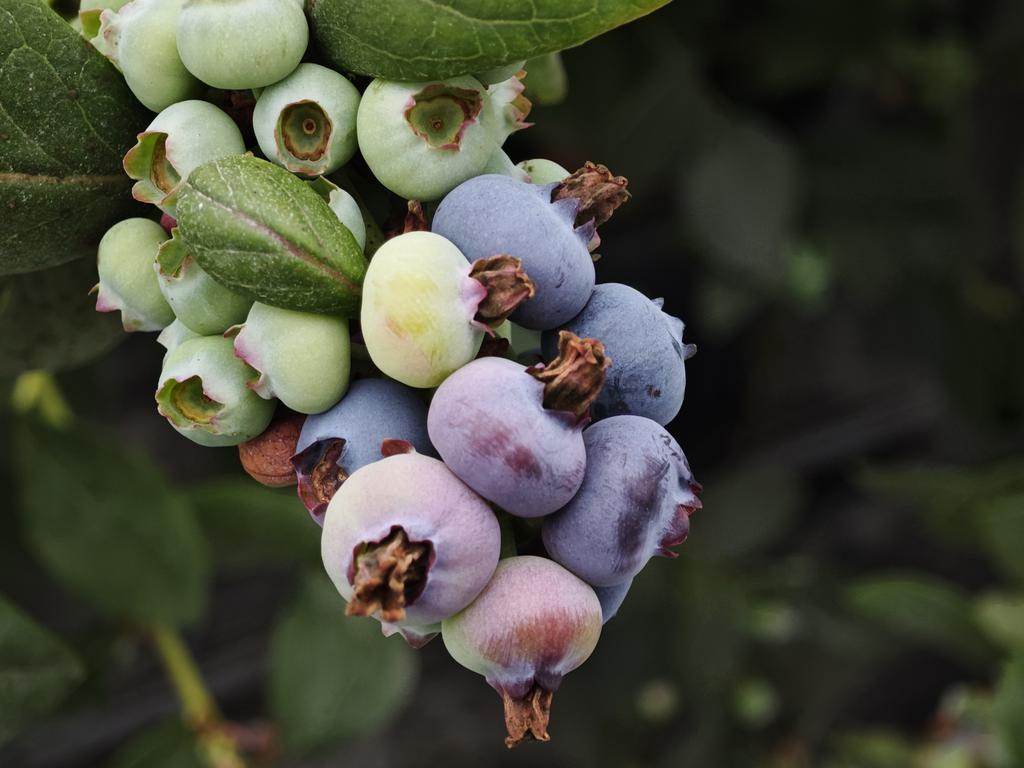RipeBlueBerry: (430, 172, 599, 330), (547, 411, 693, 592), (544, 278, 693, 425)
Semi-RipeBlueBerry: (320, 449, 505, 633), (423, 353, 590, 520), (439, 552, 606, 698)
UnripeBlueBerry: (359, 229, 498, 392), (355, 59, 499, 203)
